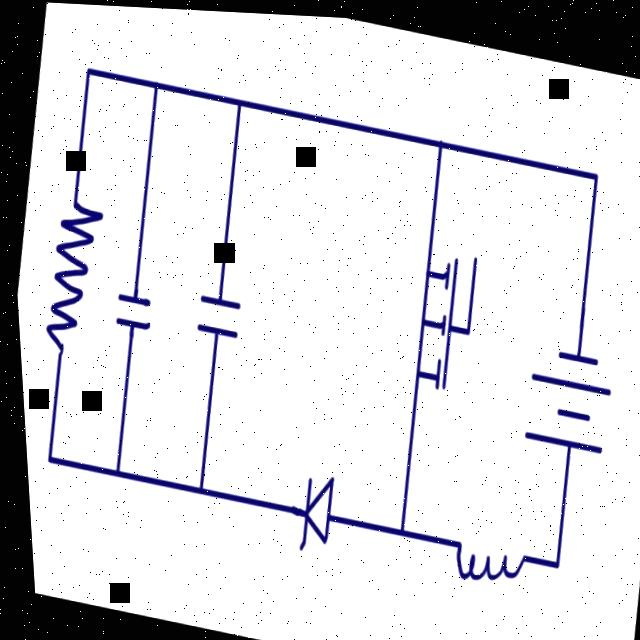capacitor: (95, 234, 169, 380), (179, 257, 261, 376)
diode: (268, 447, 349, 574)
inductor: (424, 500, 533, 607)
mosfet: (382, 217, 498, 421)
resistor: (23, 160, 120, 396)
source: (501, 291, 631, 485)
